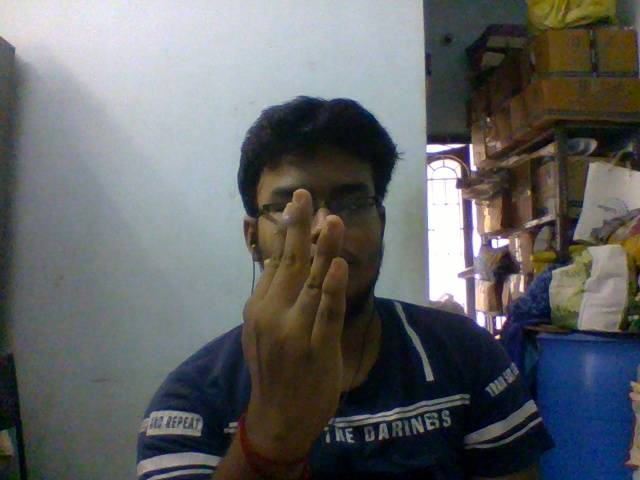LiveLong: (239, 187, 348, 453)
